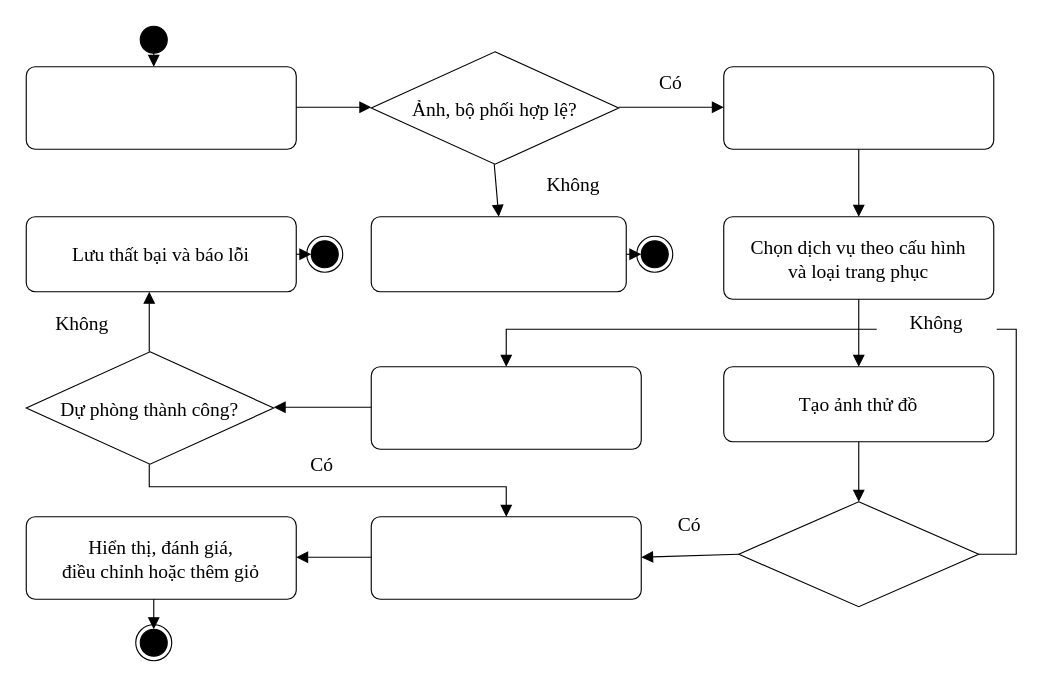
Image size: 1055x687. Some labels were removed from this diagram. Each missing label, with the centre of its shape:
Chọn bộ trang phục và tải ảnh người dùng: pixel 160 107
Có ảnh kết quả?: pixel 858 553
Lưu hoàn tất và ảnh kết quả: pixel 505 557
Thông báo dữ liệu sai: pixel 498 253
Thử dịch vụ dự phòng nếu đủ điều kiện: pixel 505 407
Tạo phiên xử lý nếu dữ liệu sẵn sàng: pixel 858 107
